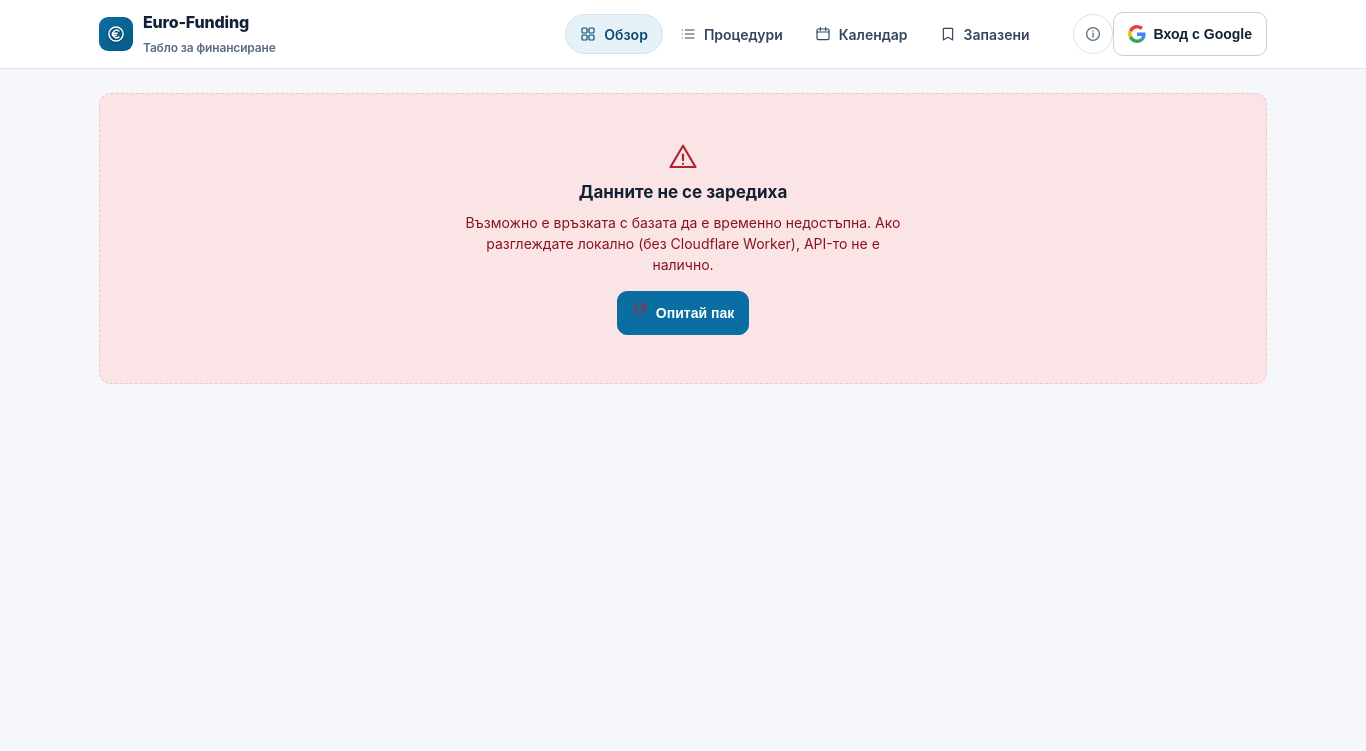
Scenario: Състояния: грешка + повторен опит › показва грешка и Retry при неуспешно зареждане
The image size is (1366, 751).
Expected: the message is shown, [99,93,1267,384]
Step 1. Click the button "Опитай пак" → click(683, 312), box [617,290,749,334]
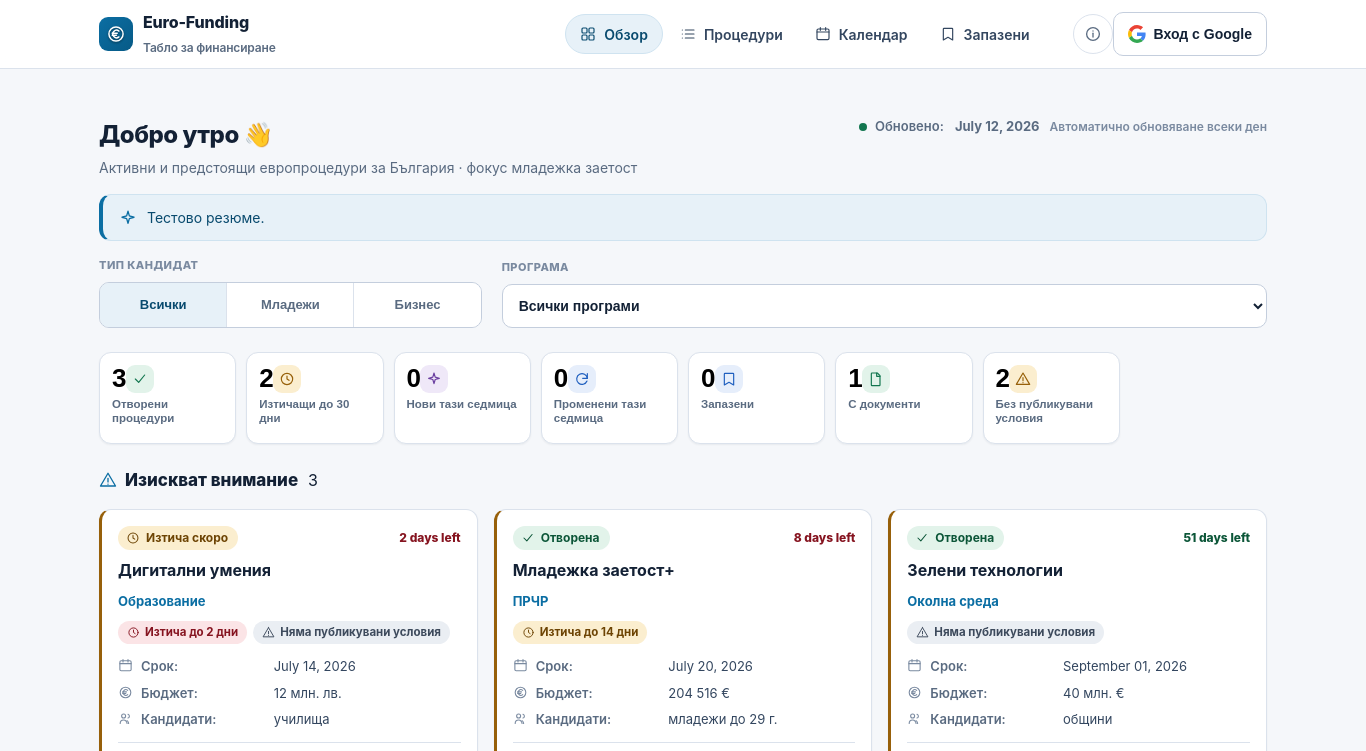
Result: the text "Отворени процедури" is shown at [112,398,174,424]
